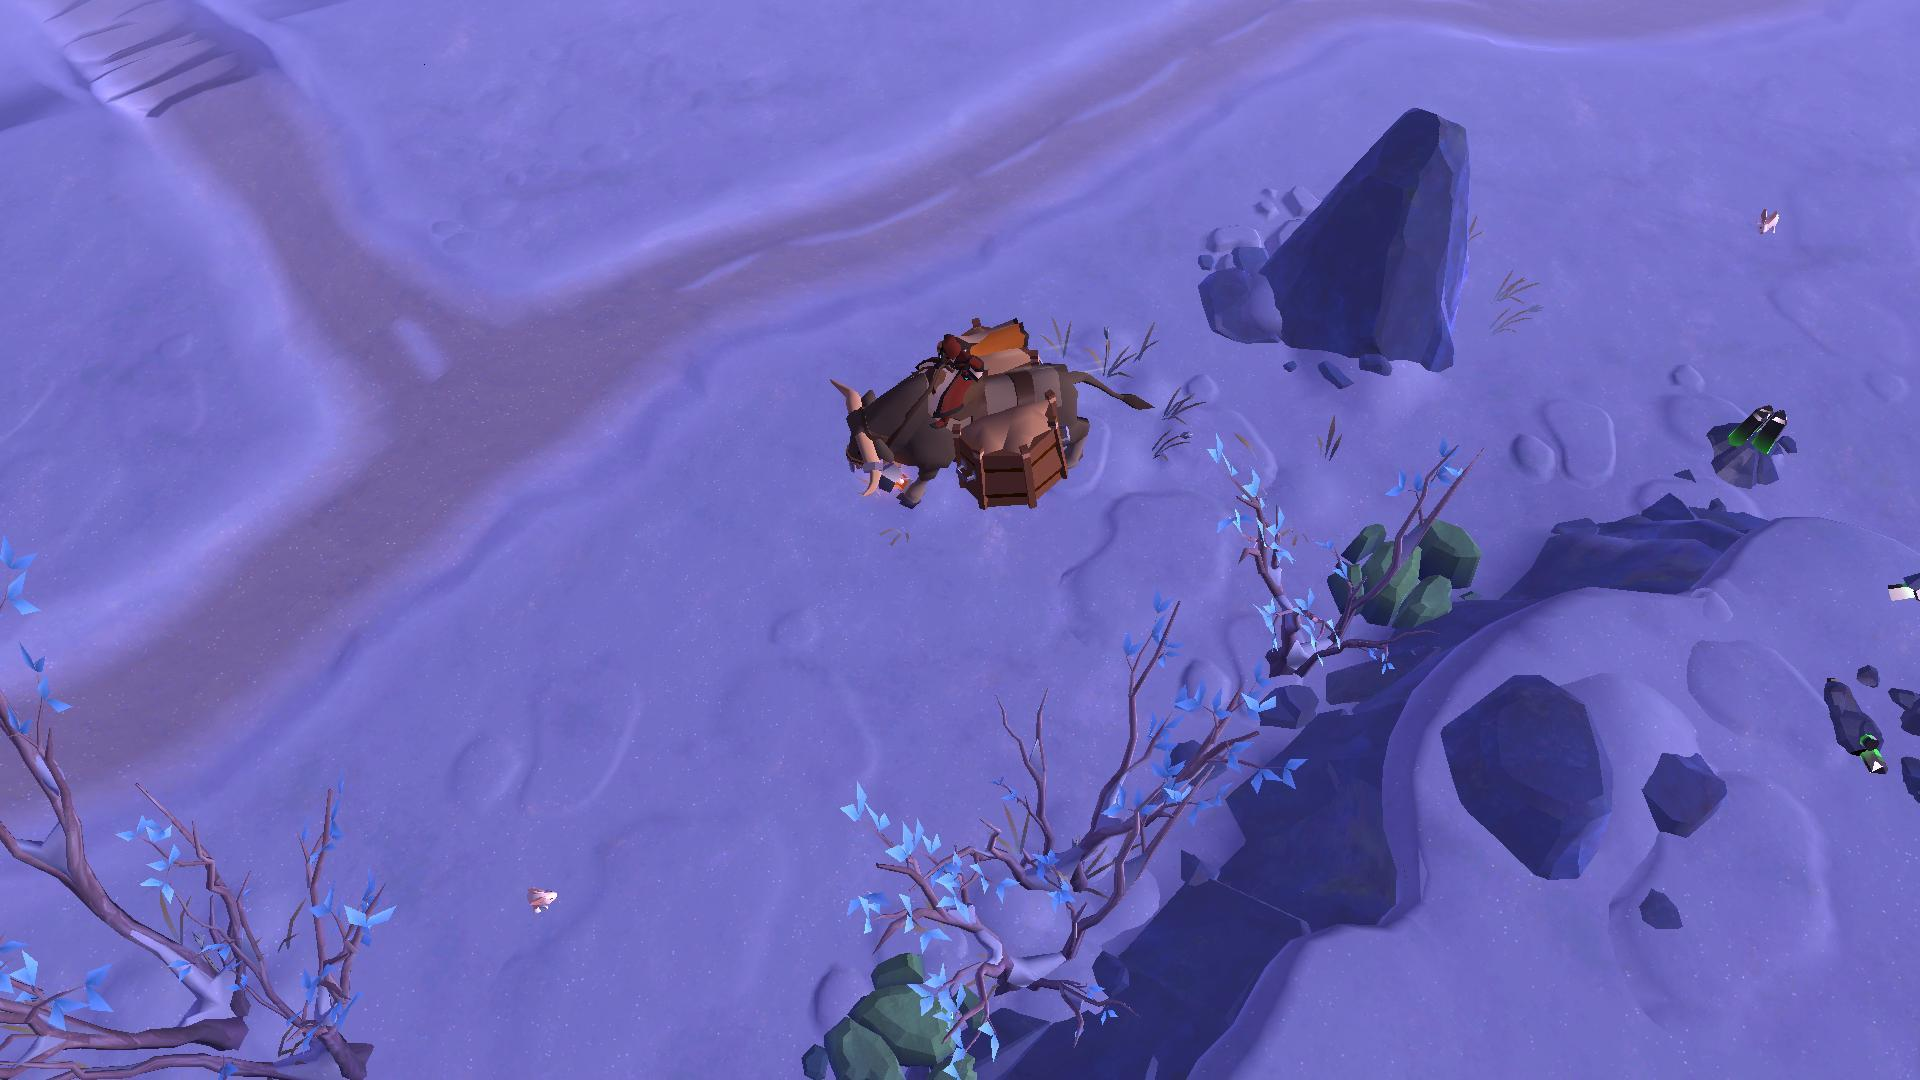ore_t3: (1702, 382, 1795, 473)
rock_t3: (761, 936, 1017, 1080), (1311, 497, 1486, 636)
